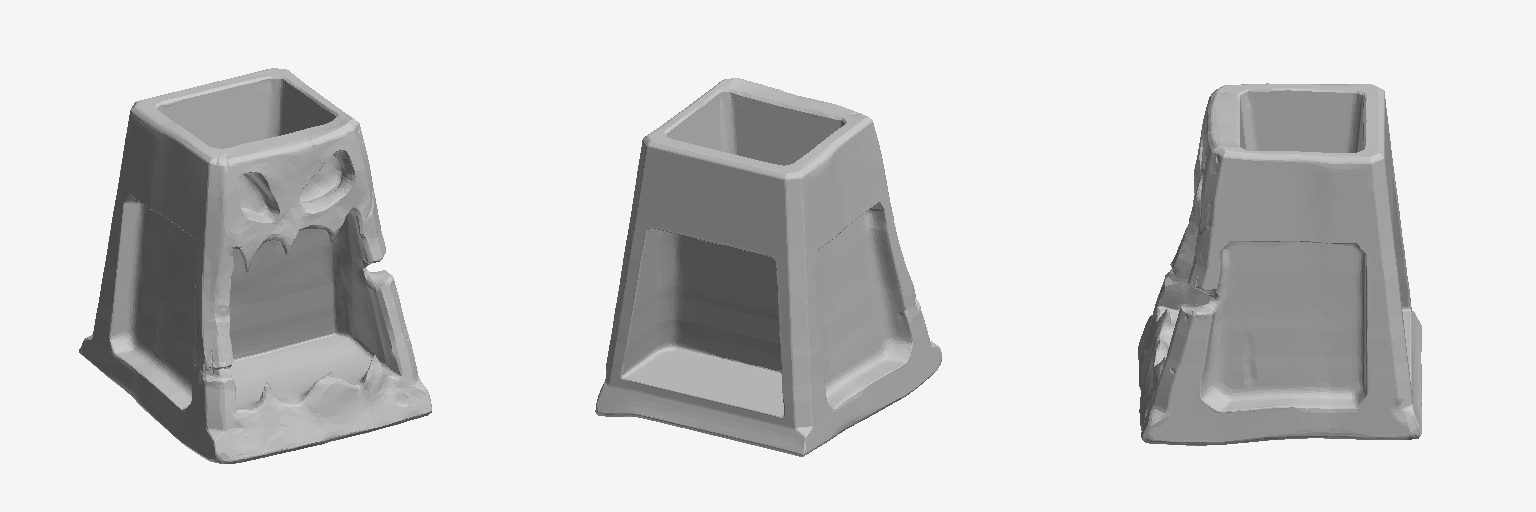
Rendered from Vorabmodel_Laterne.obj.
The picture shows the model from 3 angles: view 1: azimuth 30°, elevation 25°; view 2: azimuth 150°, elevation 25°; view 3: azimuth 270°, elevation 25°; orthographic projection.
Parts seen in each view (by area): view 1: Group30874; view 2: Group30874; view 3: Group30874.
Boxes of the visible parts, <box> form: Group30874: <box>79,68,431,463</box>; Group30874: <box>595,78,941,456</box>; Group30874: <box>1138,83,1421,445</box>.
Size of the model in its own units: 1.01 by 1.24 by 1.14.